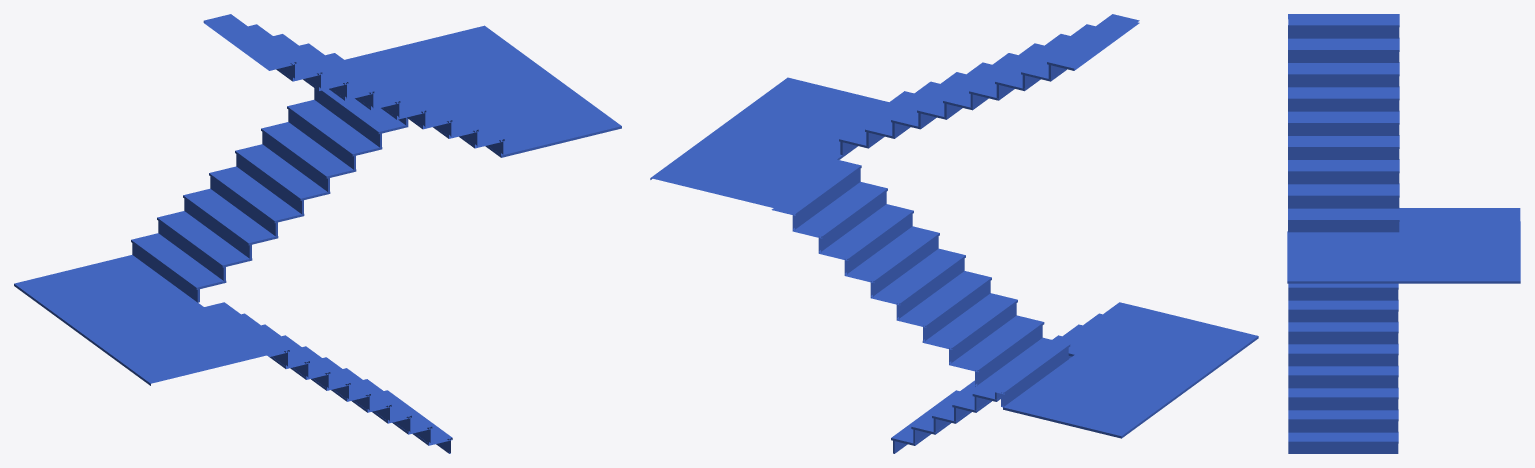
3 views of the same model, side by side, from view 1: azimuth 30°, elevation 25°; view 2: azimuth 150°, elevation 25°; view 3: azimuth 270°, elevation 25° (orthographic). The views are drawn at different scales.
Visible parts, largest first — view 1: 10000_26; view 2: 10000_26; view 3: 10000_26.
Boxes of the visible parts, x1,y1,x2,y2 form: 10000_26: [14, 14, 621, 453]; 10000_26: [650, 14, 1258, 453]; 10000_26: [1287, 14, 1520, 453].
Size of the model in its own units: 516 by 450 by 261.
